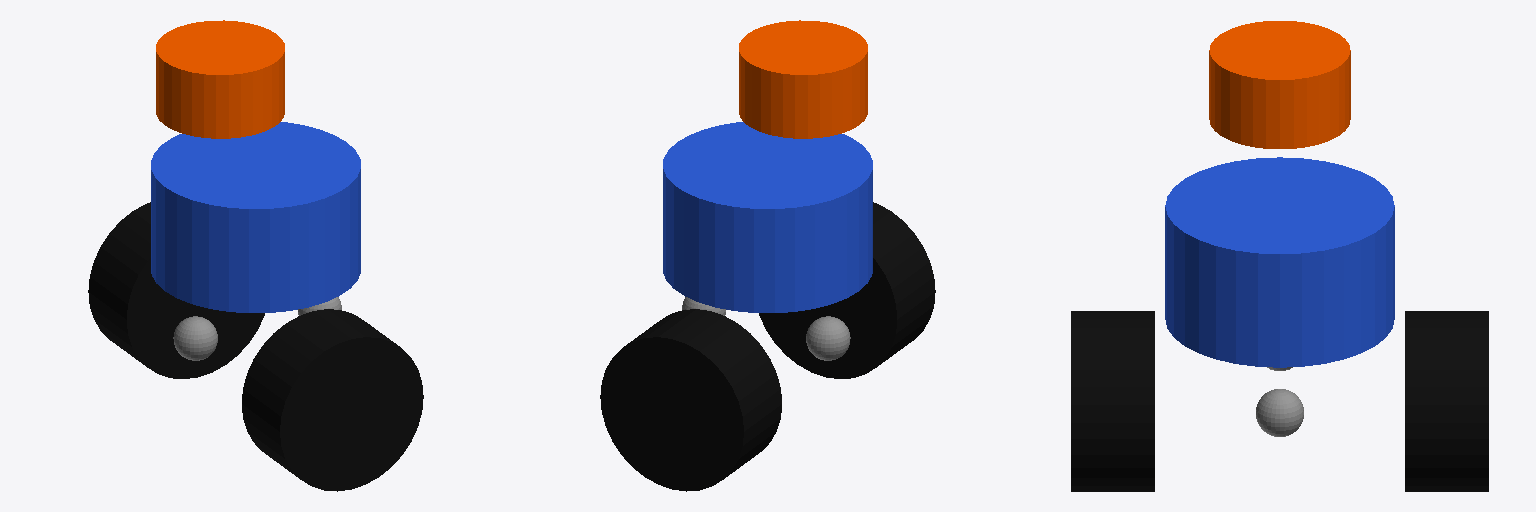
URDF robot description (burger_robot):
<?xml version="1.0"?>
<robot name="burger_robot">
  <material name="black">
    <color rgba="0.1 0.1 0.1 1.0"/>
  </material>
  <material name="gray">
    <color rgba="0.6 0.6 0.6 1.0"/>
  </material>
  <material name="blue">
    <color rgba="0.2 0.4 0.9 1.0"/>
  </material>
  <material name="orange">
    <color rgba="1.0 0.4 0.0 1.0"/>
  </material>

  <link name="base_footprint"/>

  <joint name="base_footprint_joint" type="fixed">
    <parent link="base_link"/>
    <child link="base_footprint"/>
    <origin xyz="0 0 0" rpy="0 0 0"/>
  </joint>

  <!-- Main circular chassis -->
  <link name="base_link">
    <inertial>
      <origin xyz="0 0 0" rpy="0 0 0"/>
      <mass value="2.0"/>
      <inertia ixx="0.01" ixy="0.0" ixz="0.0" iyy="0.01" iyz="0.0" izz="0.01"/>
    </inertial>
    <visual>
      <origin xyz="0 0 0.045" rpy="0 0 0"/>
      <geometry>
        <cylinder radius="0.0825" length="0.09"/>
      </geometry>
      <material name="blue"/>
    </visual>
    <collision>
      <origin xyz="0 0 0.045" rpy="0 0 0"/>
      <geometry>
        <cylinder radius="0.0825" length="0.09"/>
      </geometry>
    </collision>
  </link>

  <!-- Left drive wheel -->
  <link name="left_wheel_link">
    <inertial>
      <origin xyz="0 0 0" rpy="0 0 0"/>
      <mass value="0.25"/>
      <inertia ixx="0.0006" ixy="0.0" ixz="0.0" iyy="0.0006" iyz="0.0" izz="0.0006"/>
    </inertial>
    <visual>
      <origin xyz="0 0 0" rpy="1.57079632679 0 0"/>
      <geometry>
        <cylinder radius="0.065" length="0.06"/>
      </geometry>
      <material name="black"/>
    </visual>
    <collision>
      <origin xyz="0 0 0" rpy="1.57079632679 0 0"/>
      <geometry>
        <cylinder radius="0.065" length="0.06"/>
      </geometry>
    </collision>
  </link>

  <joint name="left_wheel_joint" type="continuous">
    <parent link="base_link"/>
    <child link="left_wheel_link"/>
    <origin xyz="0 0.12 -0.065" rpy="0 0 0"/>
    <axis xyz="1 0 0"/>
  </joint>

  <!-- Right drive wheel -->
  <link name="right_wheel_link">
    <inertial>
      <origin xyz="0 0 0" rpy="0 0 0"/>
      <mass value="0.25"/>
      <inertia ixx="0.0006" ixy="0.0" ixz="0.0" iyy="0.0006" iyz="0.0" izz="0.0006"/>
    </inertial>
    <visual>
      <origin xyz="0 0 0" rpy="1.57079632679 0 0"/>
      <geometry>
        <cylinder radius="0.065" length="0.06"/>
      </geometry>
      <material name="black"/>
    </visual>
    <collision>
      <origin xyz="0 0 0" rpy="1.57079632679 0 0"/>
      <geometry>
        <cylinder radius="0.065" length="0.06"/>
      </geometry>
    </collision>
  </link>

  <joint name="right_wheel_joint" type="continuous">
    <parent link="base_link"/>
    <child link="right_wheel_link"/>
    <origin xyz="0 -0.12 -0.065" rpy="0 0 0"/>
    <axis xyz="1 0 0"/>
  </joint>

  <!-- Front caster wheel -->
  <link name="front_caster_link">
    <inertial>
      <origin xyz="0 0 0" rpy="0 0 0"/>
      <mass value="0.05"/>
      <inertia ixx="0.00002" ixy="0.0" ixz="0.0" iyy="0.00002" iyz="0.0" izz="0.00002"/>
    </inertial>
    <visual>
      <origin xyz="0 0 0" rpy="0 0 0"/>
      <geometry>
        <sphere radius="0.0175"/>
      </geometry>
      <material name="gray"/>
    </visual>
    <collision>
      <origin xyz="0 0 0" rpy="0 0 0"/>
      <geometry>
        <sphere radius="0.0175"/>
      </geometry>
    </collision>
  </link>

  <joint name="front_caster_joint" type="fixed">
    <parent link="base_link"/>
    <child link="front_caster_link"/>
    <origin xyz="0.0575 0 -0.0475" rpy="0 0 0"/>
  </joint>

  <!-- Rear caster wheel -->
  <link name="rear_caster_link">
    <inertial>
      <origin xyz="0 0 0" rpy="0 0 0"/>
      <mass value="0.05"/>
      <inertia ixx="0.00002" ixy="0.0" ixz="0.0" iyy="0.00002" iyz="0.0" izz="0.00002"/>
    </inertial>
    <visual>
      <origin xyz="0 0 0" rpy="0 0 0"/>
      <geometry>
        <sphere radius="0.0175"/>
      </geometry>
      <material name="gray"/>
    </visual>
    <collision>
      <origin xyz="0 0 0" rpy="0 0 0"/>
      <geometry>
        <sphere radius="0.0175"/>
      </geometry>
    </collision>
  </link>

  <joint name="rear_caster_joint" type="fixed">
    <parent link="base_link"/>
    <child link="rear_caster_link"/>
    <origin xyz="-0.0545 0 -0.0475" rpy="0 0 0"/>
  </joint>

  <!-- IMU -->
  <link name="imu_link">
    <visual>
      <origin xyz="0 0 0" rpy="0 0 0"/>
      <geometry>
        <box size="0.02 0.02 0.02"/>
      </geometry>
      <material name="gray"/>
    </visual>
  </link>

  <joint name="imu_joint" type="fixed">
    <parent link="base_link"/>
    <child link="imu_link"/>
    <origin xyz="0 0 0.05" rpy="0 0 0"/>
  </joint>

  <!-- LiDAR LDS-01 -->
  <link name="base_scan">
    <inertial>
      <origin xyz="0 0 0" rpy="0 0 0"/>
      <mass value="0.114"/>
      <inertia ixx="0.001" ixy="0.0" ixz="0.0" iyy="0.001" iyz="0.0" izz="0.001"/>
    </inertial>
    <visual>
      <origin xyz="0 0 0" rpy="0 0 0"/>
      <geometry>
        <cylinder radius="0.0508" length="0.055"/>
      </geometry>
      <material name="orange"/>
    </visual>
    <collision>
      <origin xyz="0 0 0" rpy="0 0 0"/>
      <geometry>
        <cylinder radius="0.0508" length="0.055"/>
      </geometry>
    </collision>
  </link>

  <joint name="scan_joint" type="fixed">
    <parent link="base_link"/>
    <child link="base_scan"/>
    <origin xyz="-0.032 0 0.171" rpy="0 0 0"/>
  </joint>

</robot>

--- What the picture shows (computed from the rendered views, not written in the file) ---
The picture shows the robot from 3 angles, left to right: view 1: azimuth 30°, elevation 25°; view 2: azimuth 150°, elevation 25°; view 3: azimuth 270°, elevation 25°; orthographic projection.
Model burger_robot with 8 links and 7 joints (2 continuous, 5 fixed), rooted at base_link, posed all joints at 0.
Links seen in each view (by area): view 1: base_link, right_wheel_link, base_scan, left_wheel_link, rear_caster_link; view 2: base_link, left_wheel_link, base_scan, right_wheel_link, rear_caster_link; view 3: base_link, base_scan, left_wheel_link, right_wheel_link, front_caster_link.
Link boxes in pixels (x1,y1,x2,y2): base_link: (151, 122, 360, 312); right_wheel_link: (242, 309, 423, 491); base_scan: (156, 20, 284, 138); left_wheel_link: (88, 202, 264, 378); rear_caster_link: (173, 316, 217, 360); base_link: (663, 122, 872, 312); left_wheel_link: (600, 309, 781, 491); base_scan: (739, 20, 867, 138); right_wheel_link: (759, 202, 935, 378); rear_caster_link: (806, 316, 850, 360); base_link: (1165, 157, 1394, 367); base_scan: (1209, 21, 1350, 148); left_wheel_link: (1405, 311, 1488, 491); right_wheel_link: (1071, 311, 1154, 491); front_caster_link: (1256, 389, 1303, 436).
Size in the robot's own frame: 0.1653 by 0.3 by 0.3285 metres.
Geometry: primitives only (box / cylinder / sphere), no mesh files.
